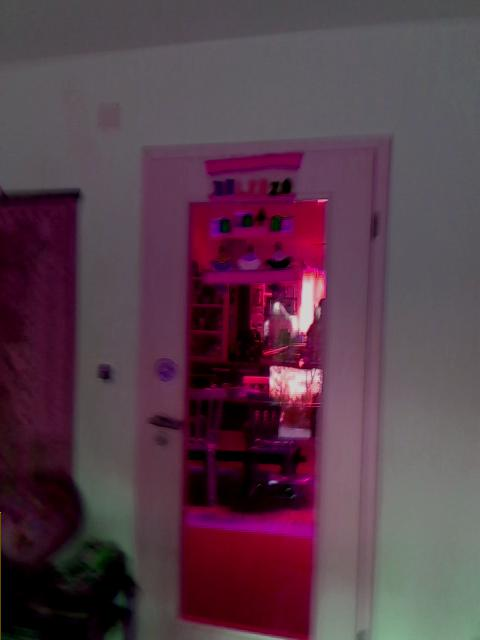closed_door: (131, 135, 390, 638)
